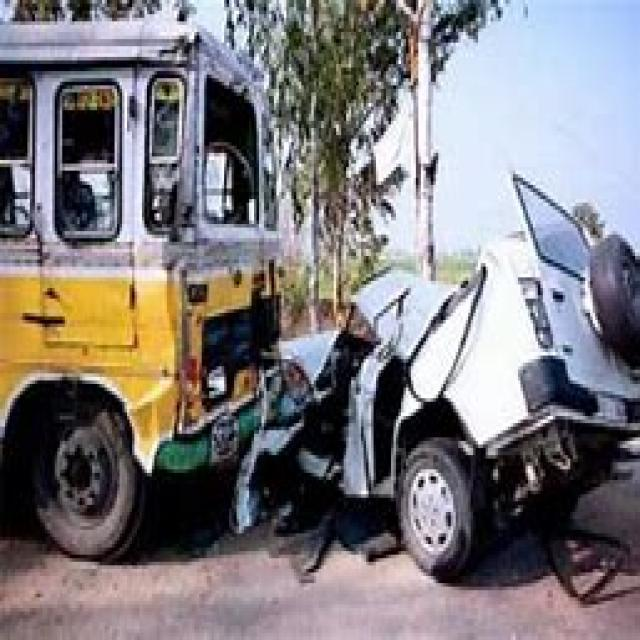multiple_accident: (40, 3, 640, 618)
